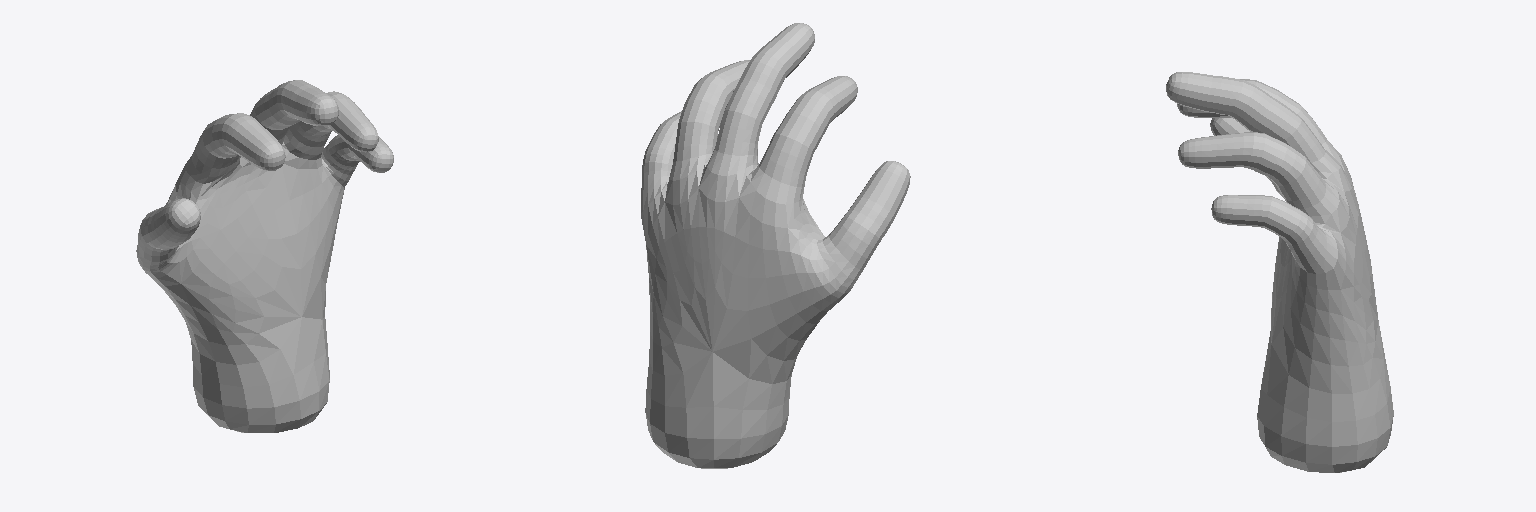
File: handanimatsion23.obj
3 renders of one model, left to right at view 1: azimuth 30°, elevation 25°; view 2: azimuth 150°, elevation 25°; view 3: azimuth 270°, elevation 25°, orthographic.
Parts seen in each view (by area): view 1: Cube; view 2: Cube; view 3: Cube.
Boxes of the visible parts, box(x1,y1,x2,y2) form: Cube: box(136, 80, 393, 432); Cube: box(641, 23, 910, 468); Cube: box(1166, 72, 1393, 472).
Size of the model in its own units: 3.43 by 5.45 by 2.94.